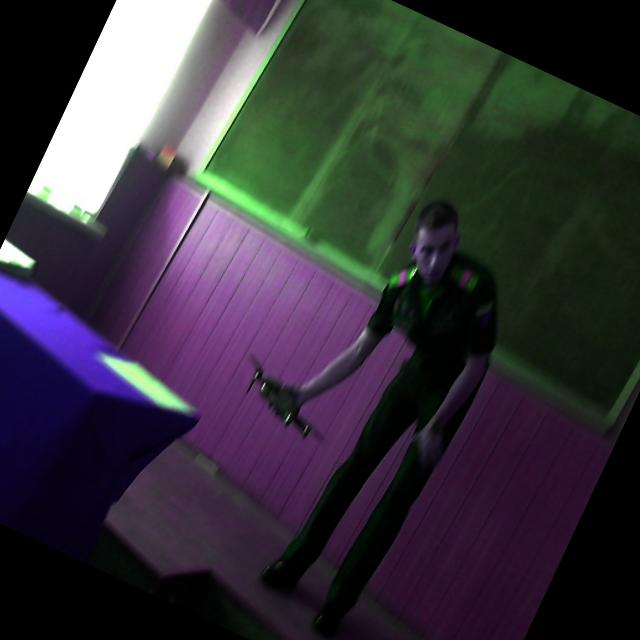drone: (218, 338, 350, 457)
